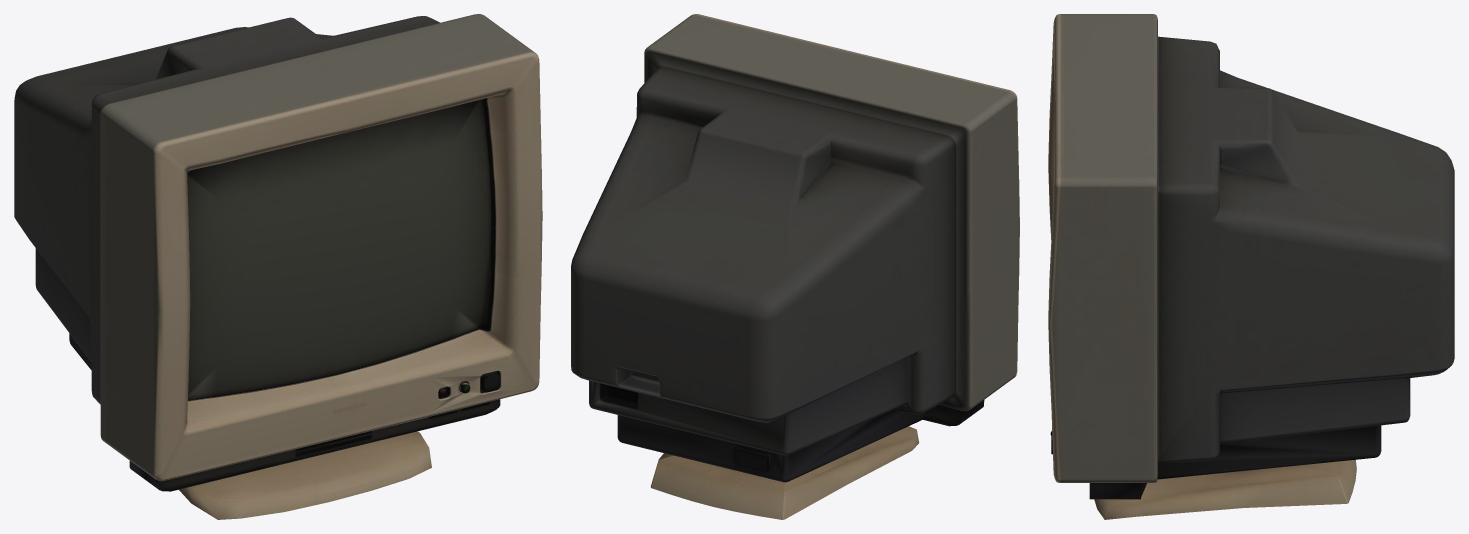
Rendered from tv-computer.glb.
The picture shows the model from 3 angles, left to right: view 1: azimuth 30°, elevation 25°; view 2: azimuth 150°, elevation 25°; view 3: azimuth 270°, elevation 25°; orthographic projection. The views are drawn at different scales.
Parts seen in each view (by area): view 1: tripo_70f9fad6_a337_4507_97d6_125f857ce3d4; view 2: tripo_70f9fad6_a337_4507_97d6_125f857ce3d4; view 3: tripo_70f9fad6_a337_4507_97d6_125f857ce3d4.
Part boxes in pixels (x1=…): tripo_70f9fad6_a337_4507_97d6_125f857ce3d4: x1=14, y1=14, x2=542, y2=519; tripo_70f9fad6_a337_4507_97d6_125f857ce3d4: x1=571, y1=14, x2=1019, y2=519; tripo_70f9fad6_a337_4507_97d6_125f857ce3d4: x1=1048, y1=14, x2=1454, y2=519.
Size of the model in its own units: 0.9673 by 0.9995 by 0.978.
Materials: 1 (1 with a texture image).
